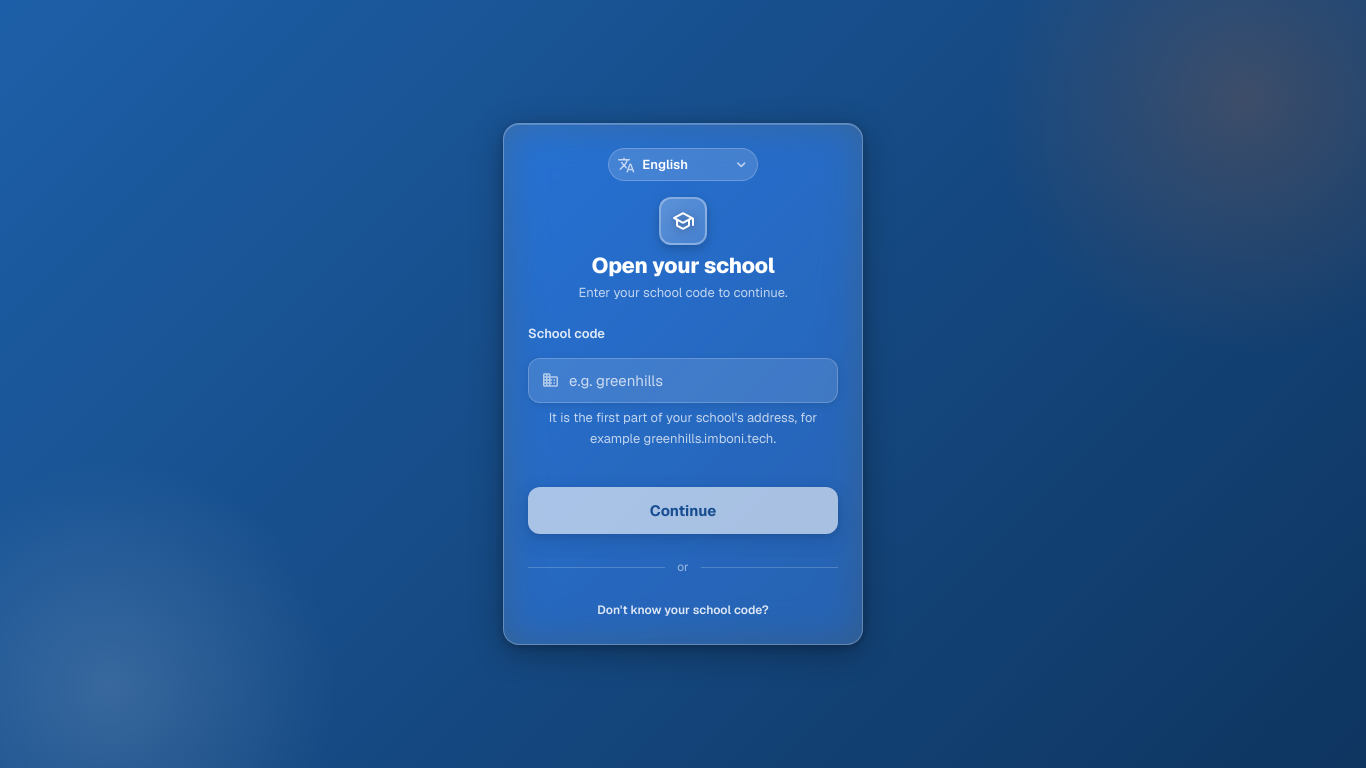
Test case: Start (the installed app's first screen) › with no school remembered › says so when no school has that code, and does not navigate
Step 1. Type "nothere" into the field labelled "School code" → (683, 380), box x1=528 y1=358 x2=838 y2=403
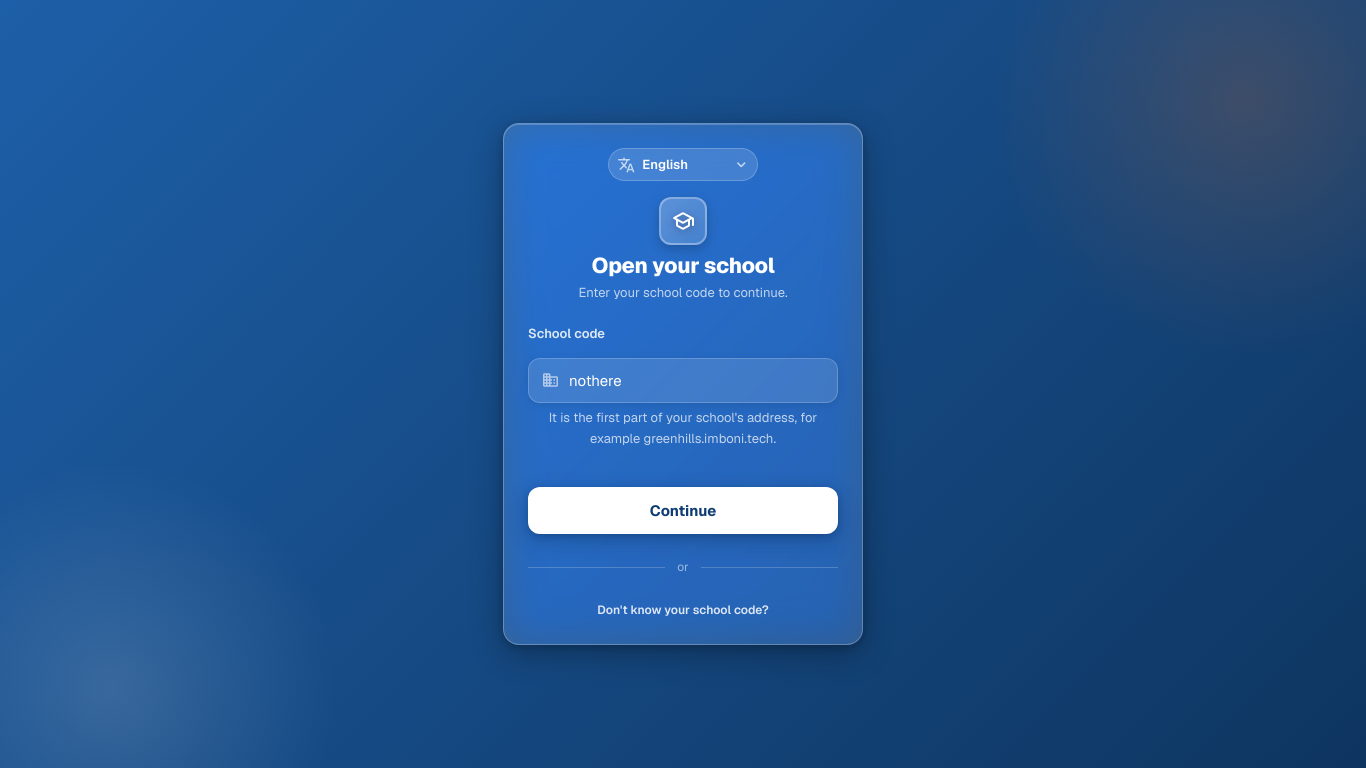
Step 2. Click the button "Continue" → (683, 510), box x1=528 y1=487 x2=838 y2=534
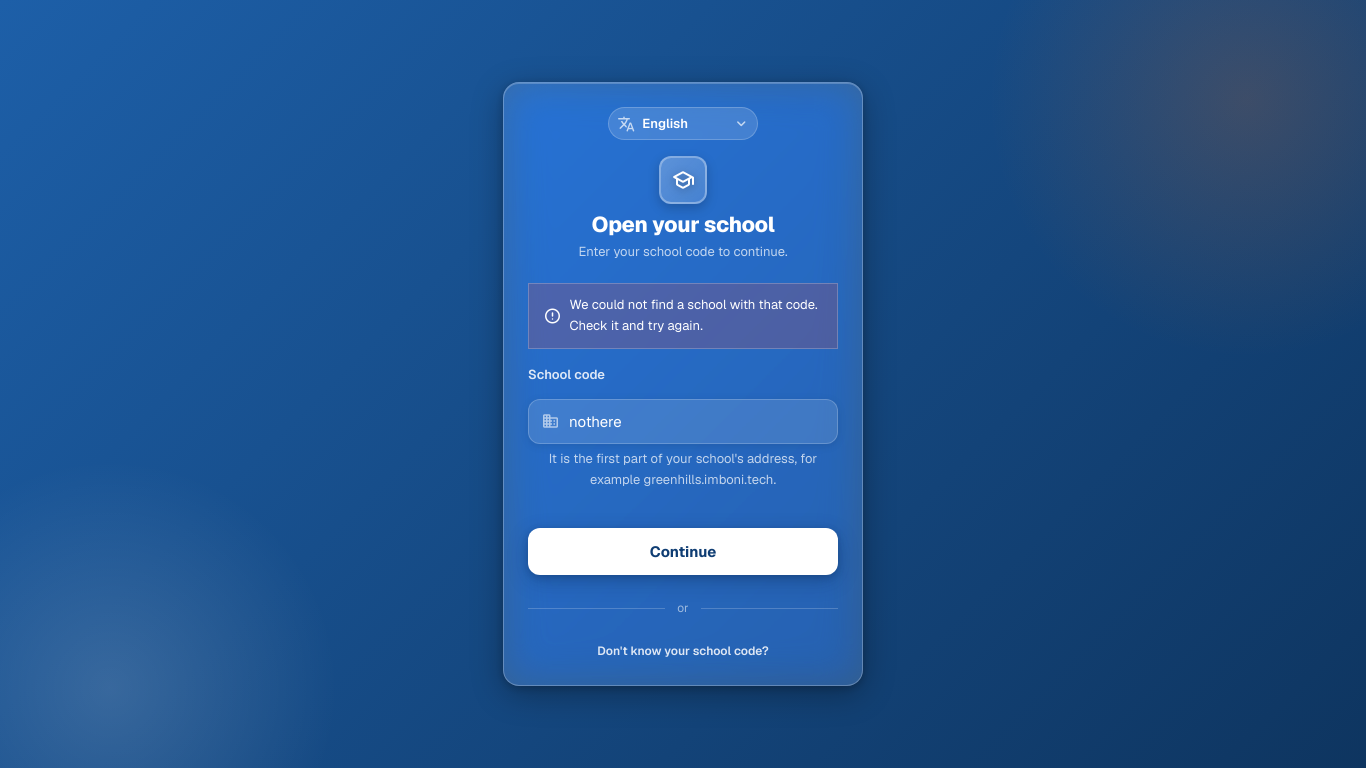
Expected: the message shows "could not find a school", x1=569 y1=296 x2=818 y2=334
